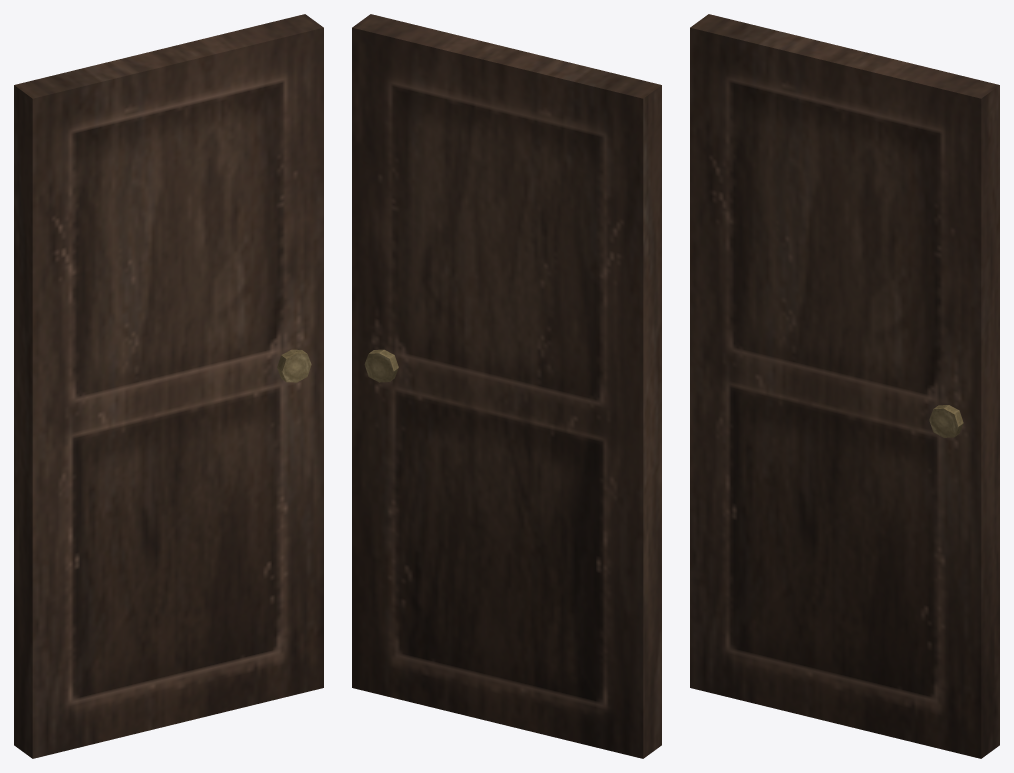
The model's file is Door.T_3x3.fbx.
3 renders of one model, left to right at view 1: azimuth 30°, elevation 25°; view 2: azimuth 150°, elevation 25°; view 3: azimuth 330°, elevation 25°, orthographic.
Visible parts, largest first — view 1: Door.T_3x3; view 2: Door.T_3x3; view 3: Door.T_3x3.
Boxes of the visible parts, box(x1,y1,x2,y2) form: Door.T_3x3: box(14, 14, 323, 758); Door.T_3x3: box(352, 14, 661, 758); Door.T_3x3: box(690, 14, 999, 758).
Bounding box in the file's own units: 90 × 195 × 15.54.
